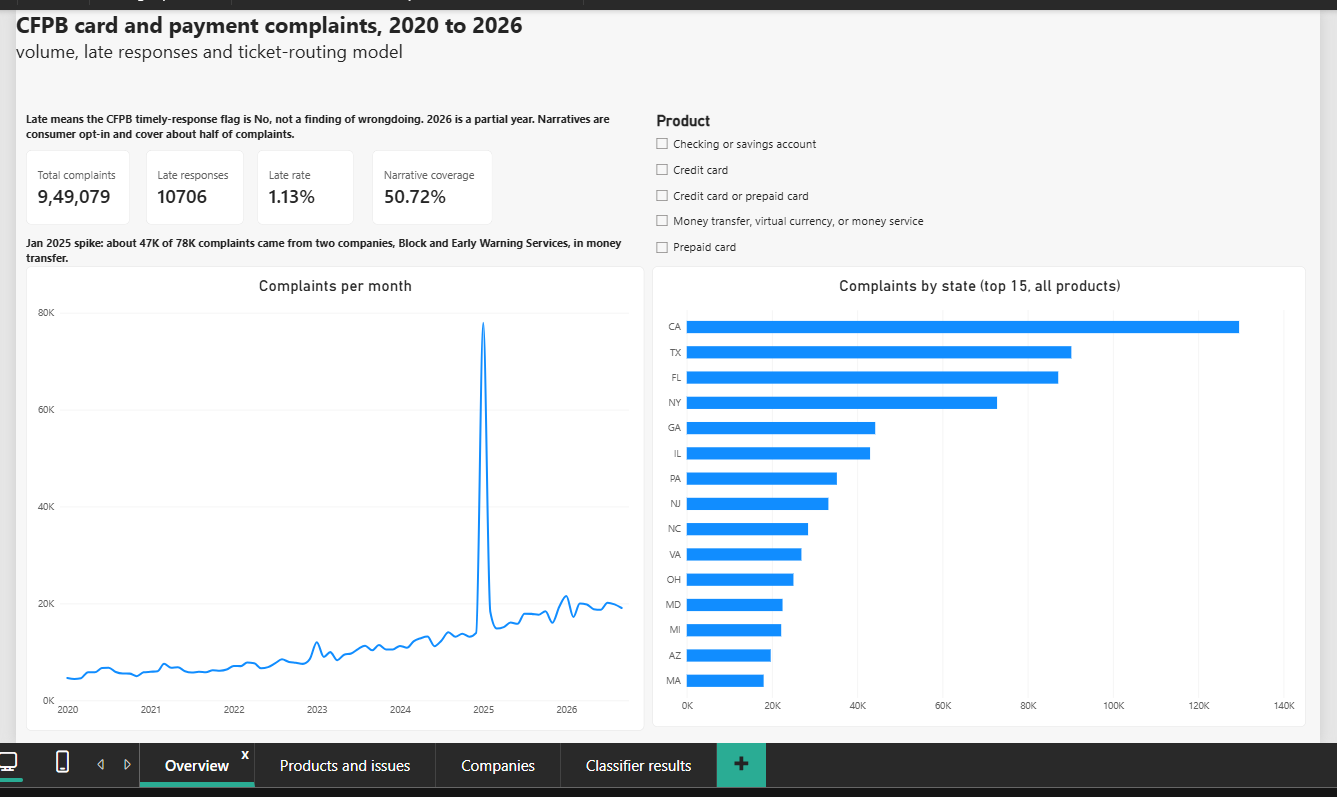

Layout of this report page (visuals, bound fields, positions):
{"tool":"powerbi","page":{"name":"Overview","canvas":[1920,1080],"ordinal":0},"visuals":[{"type":"cardVisual","fields":{"Data":["monthly_summary.Total complaints"]},"box":[14.4,205.8,153.8,110.4],"z":0},{"type":"cardVisual","fields":{"Data":["monthly_summary.Late responses"]},"box":[191.4,205.8,144.8,110.4],"z":1000},{"type":"cardVisual","fields":{"Data":["monthly_summary.Late rate"]},"box":[356.1,205.8,143,110.4],"z":2000},{"type":"cardVisual","fields":{"Data":["monthly_summary.Narrative coverage"]},"box":[524.9,205.8,177.3,110.4],"z":3000},{"type":"lineChart","title":"Complaints per month","fields":{"Category":["monthly_summary.month_start"],"Y":["monthly_summary.Total complaints"]},"box":[14.5,376.4,910.3,684.1],"z":4000},{"type":"clusteredBarChart","title":"Complaints by state (top 15, all products)","fields":{"Category":["state_summary.state"],"Y":["Sum(state_summary.complaints)"]},"box":[937.4,378.2,962.7,678.6],"z":5000},{"type":"slicer","fields":{"Values":["Products.product"]},"box":[935.7,148.8,965.1,227.1],"z":6000},{"type":"textbox","box":[14.4,148.2,922.9,47.1],"z":7000},{"type":"textbox","box":[14.4,331.4,922.1,47.3],"z":7001},{"type":"textbox","box":[0,0,1899.8,125.6],"z":7002}]}

Visuals, with their boxes on the page's 1920x1080 design canvas (x1, y1, x2, y2). These are canvas units, not pixel positions in the 1337x797 screenshot, which may show the page scaled, cropped or inside an application window:
cardVisual - monthly_summary.Total complaints: select_region(14, 206, 168, 316)
cardVisual - monthly_summary.Late responses: select_region(191, 206, 336, 316)
cardVisual - monthly_summary.Late rate: select_region(356, 206, 499, 316)
cardVisual - monthly_summary.Narrative coverage: select_region(525, 206, 702, 316)
"Complaints per month" lineChart: select_region(14, 376, 925, 1060)
"Complaints by state (top 15, all products)" clusteredBarChart: select_region(937, 378, 1900, 1057)
slicer - Products.product: select_region(936, 149, 1901, 376)
textbox: select_region(14, 148, 937, 195)
textbox: select_region(14, 331, 936, 379)
textbox: select_region(0, 0, 1900, 126)
